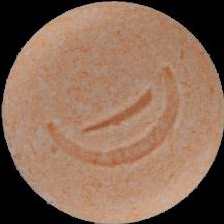0228-2850: (0, 0, 224, 224)
